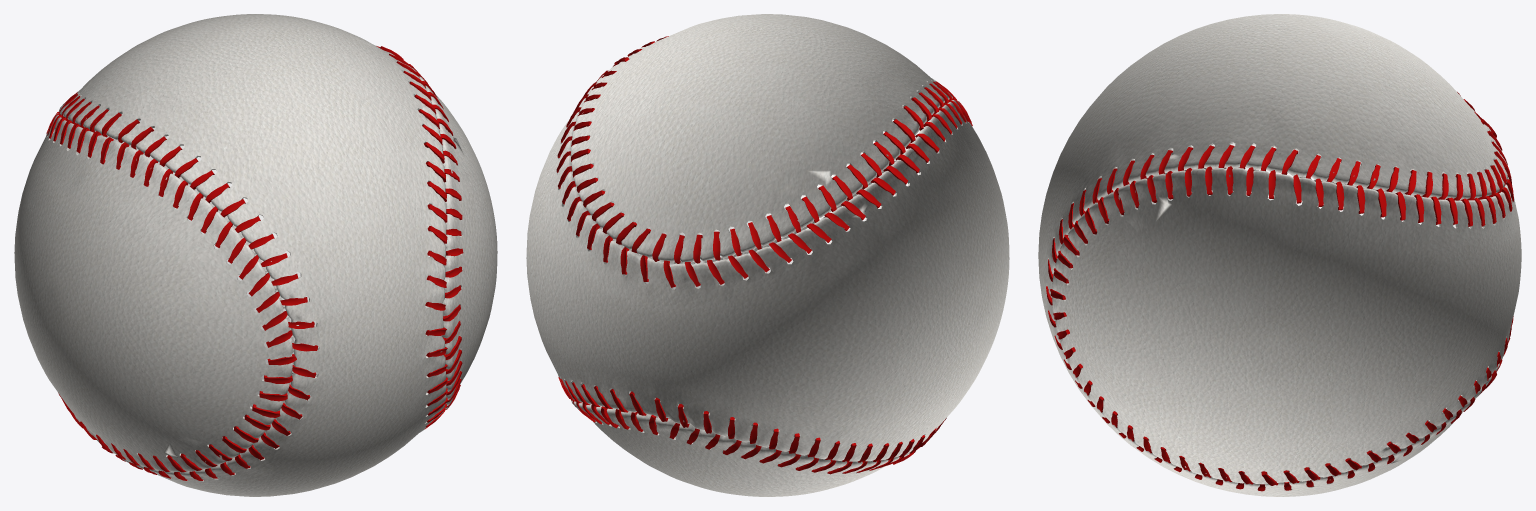
The model's file is newBall.glb.
3 views of the same model, side by side, from view 1: azimuth 30°, elevation 25°; view 2: azimuth 150°, elevation 25°; view 3: azimuth 270°, elevation 25° (orthographic).
Parts seen in each view (by area): view 1: Object_3, Object_6, Object_5, Object_8, Object_2, Object_7, Object_4; view 2: Object_3, Object_8, Object_7, Object_5, Object_2, Object_6, Object_4; view 3: Object_3, Object_6, Object_8, Object_7, Object_5, Object_2.
Part boxes in pixels (x1,y1,x2,y2): Object_3: (14, 14, 497, 496); Object_6: (80, 46, 463, 480); Object_5: (80, 46, 461, 480); Object_8: (46, 92, 120, 417); Object_2: (47, 54, 462, 481); Object_7: (46, 46, 379, 428); Object_4: (78, 113, 429, 444); Object_3: (526, 14, 1009, 496); Object_8: (556, 70, 939, 474); Object_7: (557, 71, 937, 473); Object_5: (596, 36, 972, 464); Object_2: (556, 58, 968, 473); Object_6: (605, 36, 971, 452); Object_4: (590, 107, 927, 435); Object_3: (1038, 14, 1521, 496); Object_6: (1046, 145, 1301, 491); Object_8: (1262, 100, 1513, 490); Object_7: (1261, 92, 1513, 488); Object_5: (1046, 146, 1301, 489); Object_2: (1047, 130, 1513, 489).
Bounding box in the file's own units: 2 × 2 × 2.
3 materials, 1 textured.
